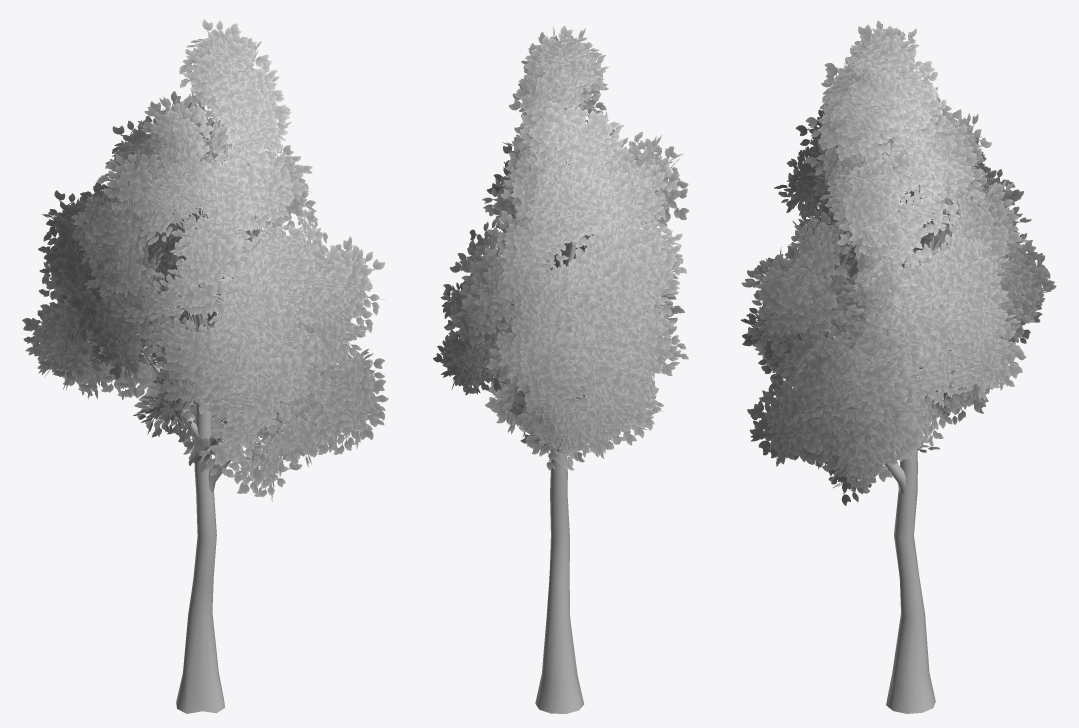
File: SM_Birch_02_Unity.fbx
3 renders of one model, left to right at view 1: azimuth 30°, elevation 25°; view 2: azimuth 150°, elevation 25°; view 3: azimuth 270°, elevation 25°, orthographic. The views are drawn at different scales.
Visible parts, largest first — view 1: Birch_02_LOD0; view 2: Birch_02_LOD0; view 3: Birch_02_LOD0.
Part boxes in pixels (x1,y1,x2,y2): Birch_02_LOD0: (22, 19, 388, 713); Birch_02_LOD0: (433, 25, 689, 713); Birch_02_LOD0: (740, 21, 1056, 713).
Size of what is drawn, in the model's own units: 57.78 by 142 by 62.45.
